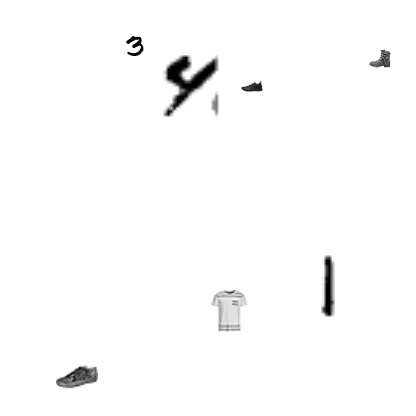1: (286, 244, 370, 328)
3: (121, 31, 149, 59)
4: (146, 38, 230, 122)
Ankle_boot: (369, 47, 391, 69)
Sneaker: (56, 355, 98, 397), (241, 75, 263, 97)
T-shirt/top: (208, 290, 250, 332)
